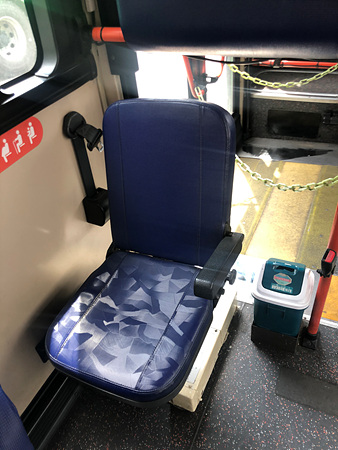seat: (43, 105, 230, 392)
